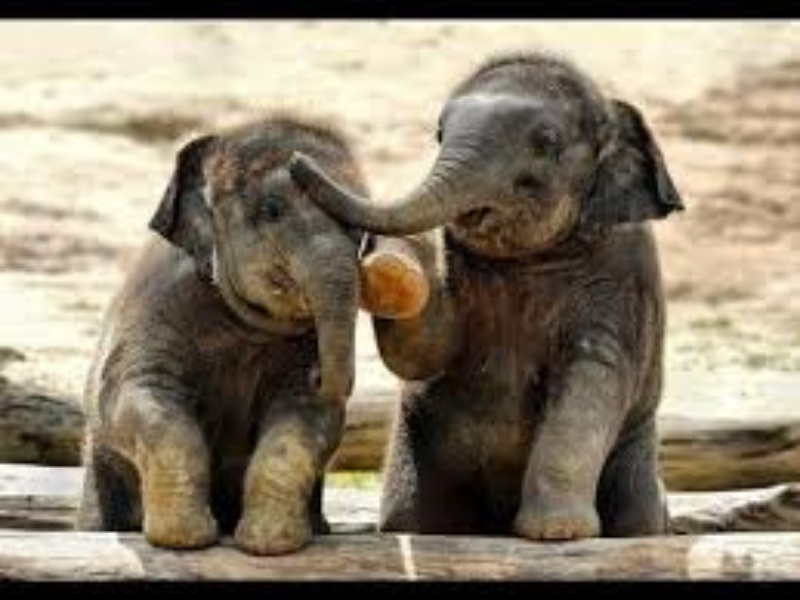elephant: (365, 22, 693, 537), (64, 97, 371, 554)
